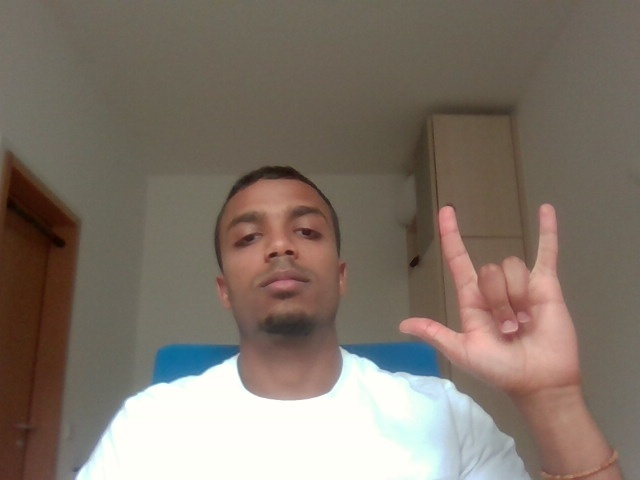absolutely: (390, 203, 612, 399)
